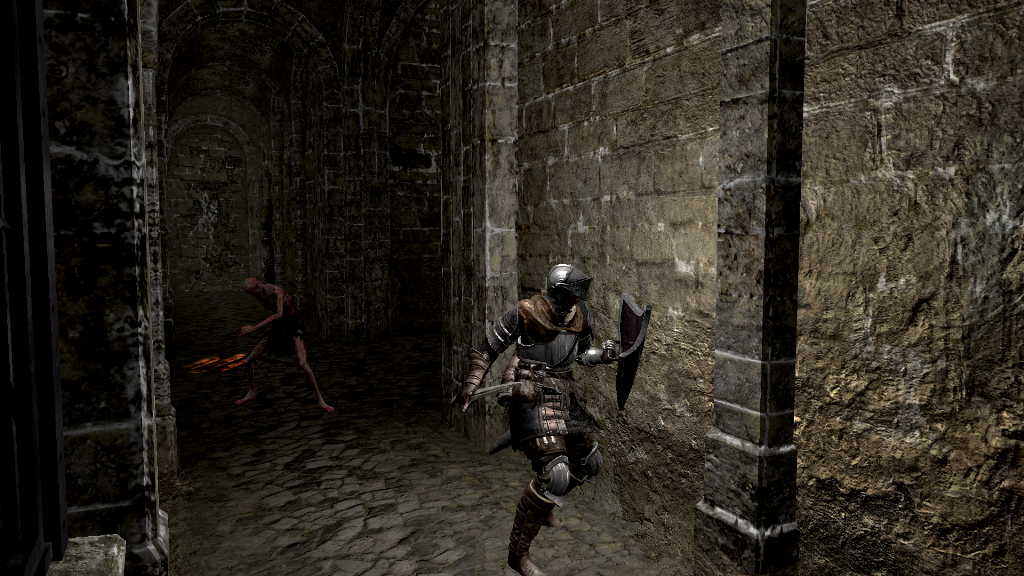hollow: (235, 278, 335, 411)
player: (447, 262, 654, 576)
